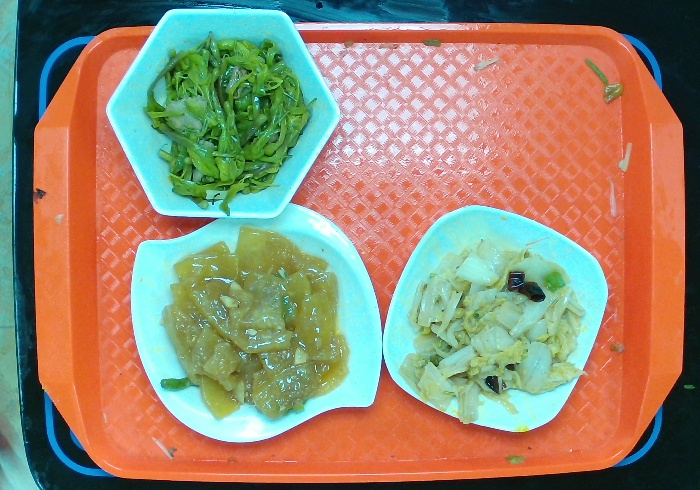RJxy-Liu_Jiao_Wan: (104, 1, 343, 223)
RJxy-Shuang_Jiao_Pan: (124, 201, 381, 443)
RJxy-Si_Fang_Wan: (378, 201, 612, 436)
